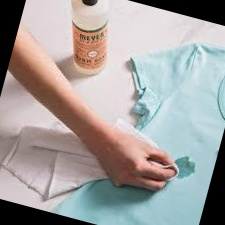oil: (179, 154, 200, 181), (170, 151, 190, 167)
